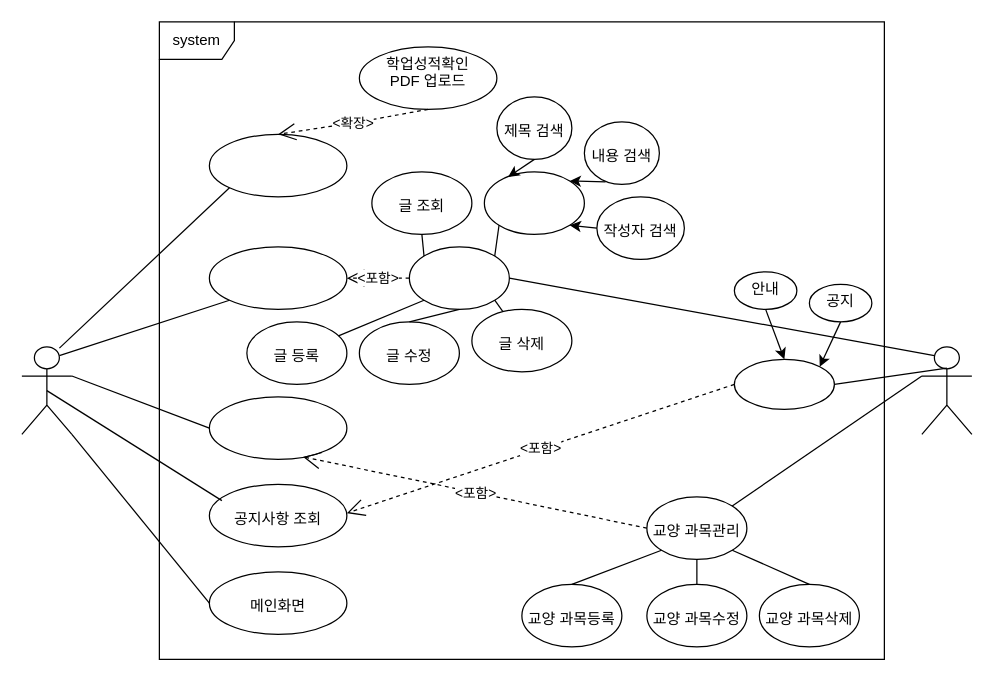
This 994x681 diagram has some shape labels left out. Here are the shapes that lost their labels. From the top down, the centre of each, then its label:
At point 277,165: "졸업요건 조회".
At point 533,202: "글 검색".
At point 277,277: "게시판".
At point 458,277: "게시판 글 관리".
At point 46,390: "사용자".
At point 783,383: "공지사항".
At point 946,390: "관리자".
At point 277,427: "교양추천조회".
